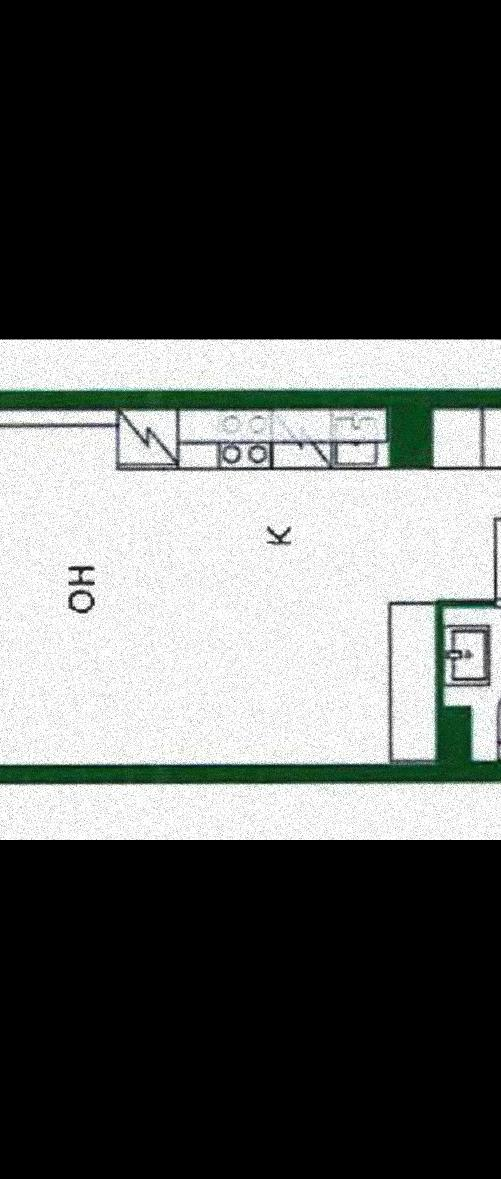door: (0, 406, 501, 765), (444, 604, 501, 758)
